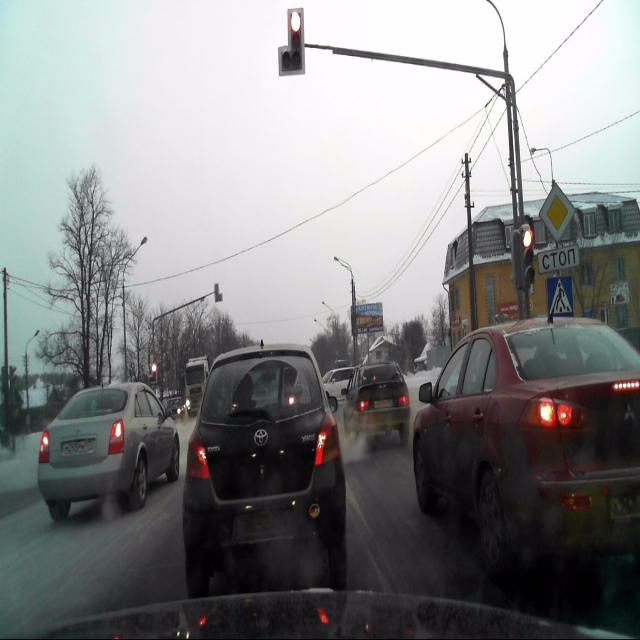road sign: (540, 182, 574, 241), (546, 275, 575, 321), (538, 244, 579, 271)
